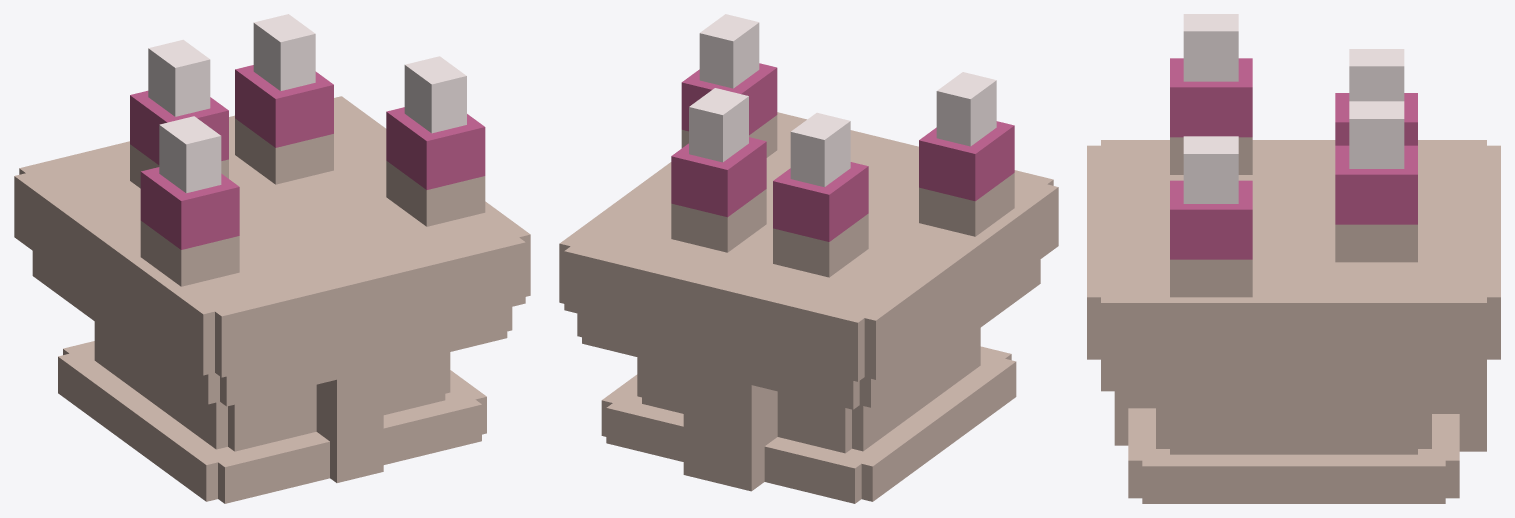
The picture shows the model from 3 angles, left to right: view 1: azimuth 30°, elevation 25°; view 2: azimuth 150°, elevation 25°; view 3: azimuth 270°, elevation 25°; orthographic projection. The views are drawn at different scales.
Parts seen in each view (by area): view 1: L003, L1, L002; view 2: L003, L1, L002; view 3: L003, L1, L002.
Boxes of the visible parts, box(x1,y1,x2,y2) form: L003: box(14, 96, 530, 503); L1: box(130, 65, 485, 249); L002: box(148, 14, 466, 193); L003: box(559, 112, 1058, 503); L1: box(671, 63, 1014, 241); L002: box(689, 14, 996, 187); L003: box(1087, 137, 1500, 503); L1: box(1170, 58, 1417, 259); L002: box(1183, 14, 1404, 203).
Bounding box in the file's own units: 280 × 280 × 300.
Materials: 3 (3 with a texture image).
